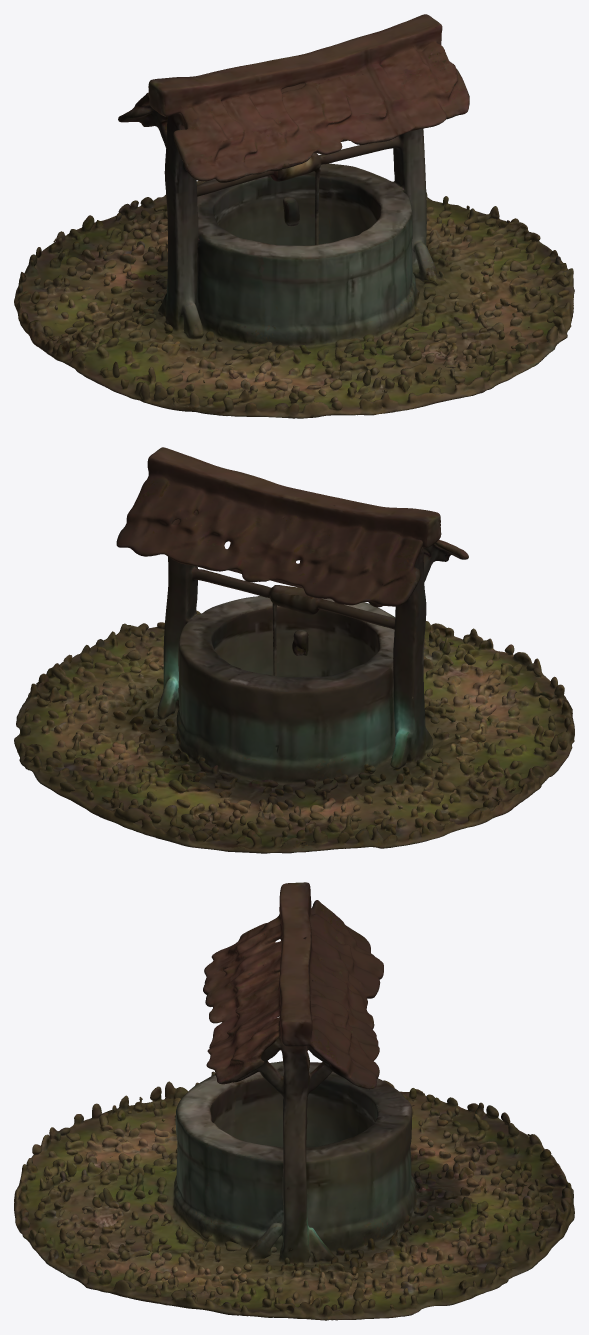
The model's file is well.glb.
3 views of the same model, one above another, from view 1: azimuth 30°, elevation 25°; view 2: azimuth 150°, elevation 25°; view 3: azimuth 270°, elevation 25° (orthographic).
Bounding box in the file's own units: 2 × 1.02 × 1.98.
1 material, 1 textured.
